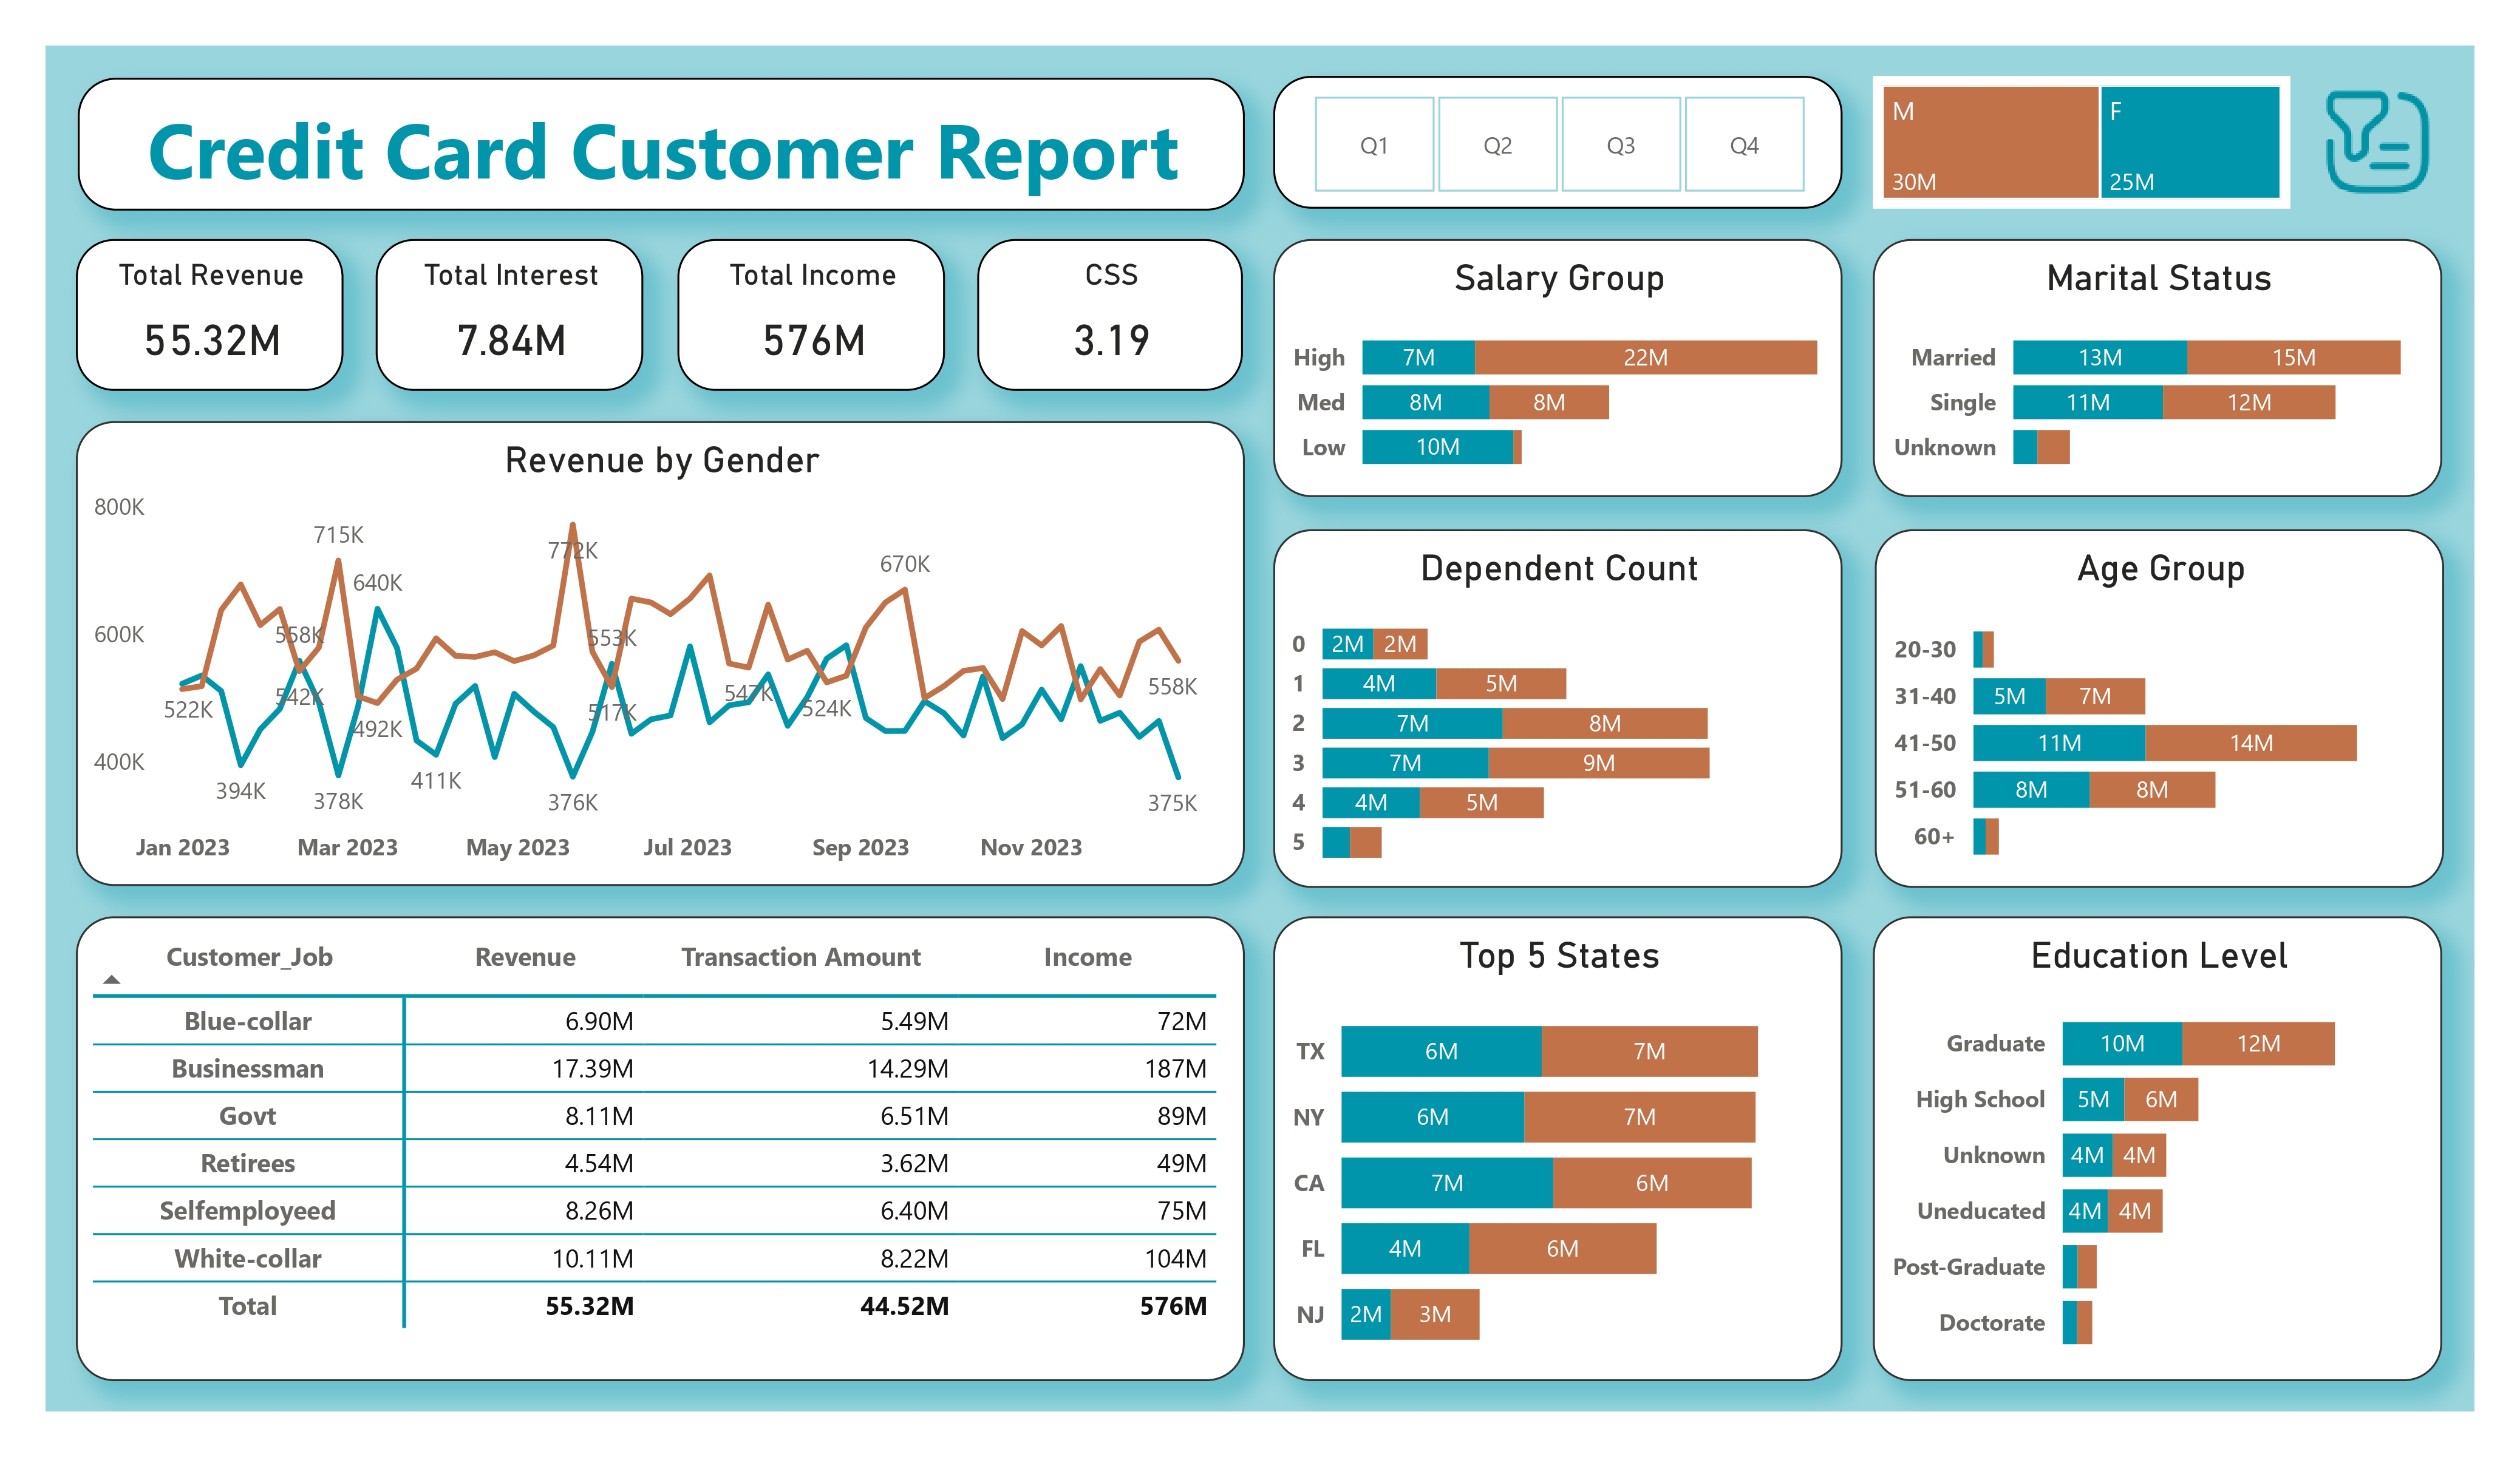

Layout of this report page (visuals, bound fields, positions):
{"tool":"powerbi","page":{"name":"Page 2","canvas":[1280,720],"ordinal":1},"visuals":[{"type":"shape","box":[16.7,16.7,615,70],"z":0},{"type":"slicer","fields":{"Values":["cc_detail.Qtr"]},"box":[647,16,300,70.3],"z":1000},{"type":"barChart","title":"Salary Group","fields":{"Category":["cust_detail.Income_Group"],"Y":["Sum(cc_detail.Revenue)"],"Series":["cust_detail.Gender"]},"box":[647.1,101.6,300.1,136],"z":4000},{"type":"barChart","title":"Dependent Count","fields":{"Category":["cust_detail.Dependent_Count"],"Y":["Sum(cc_detail.Revenue)"],"Series":["cust_detail.Gender"]},"box":[647.1,254.8,300.1,189.1],"z":5000},{"type":"barChart","title":"Age Group","fields":{"Category":["cust_detail.Age_Group"],"Y":["Sum(cc_detail.Revenue)"],"Series":["cust_detail.Gender"]},"box":[964.4,254.8,300.1,189.1],"z":6000},{"type":"barChart","title":"Top 5 States","fields":{"Category":["cust_detail.state_cd"],"Y":["Sum(cc_detail.Revenue)"],"Series":["cust_detail.Gender"]},"box":[647,459,300,245],"z":7000},{"type":"barChart","title":"Education Level","fields":{"Category":["cust_detail.Education_Level"],"Y":["Sum(cc_detail.Revenue)"],"Series":["cust_detail.Gender"]},"box":[963,459,300,245],"z":8000},{"type":"barChart","title":"Marital Status","fields":{"Category":["cust_detail.Marital_Status"],"Y":["Sum(cc_detail.Revenue)"],"Series":["cust_detail.Gender"]},"box":[962.8,101.6,300.1,136],"z":9000},{"type":"lineChart","title":"Revenue by Gender","fields":{"Y":["Sum(cc_detail.Revenue)"],"Category":["cc_detail.Week_Start_Date"],"Series":["cust_detail.Gender"]},"box":[16,198.5,615.8,245],"z":10000},{"type":"pivotTable","fields":{"Values":["Sum(cc_detail.Revenue)","Sum(cc_detail.Total_Trans_Amt)","Sum(cust_detail.Income)"],"Rows":["cust_detail.Customer_Job"]},"box":[16,459,615.8,245],"z":11000},{"type":"treemap","fields":{"Group":["cust_detail.Gender"],"Values":["Sum(cc_detail.Revenue)"]},"box":[962.8,16,220.4,70.3],"z":12000},{"type":"card","title":"Total Revenue","fields":{"Values":["Sum(cc_detail.Revenue)"]},"box":[16,102,141,80],"z":13000},{"type":"card","title":"Total Interest","fields":{"Values":["Sum(cc_detail.Interest_Earned)"]},"box":[174.3,102,141,80],"z":14000},{"type":"card","title":"Total Income","fields":{"Values":["Sum(cust_detail.Income)"]},"box":[332.5,102,141,80],"z":15000},{"type":"card","title":"CSS","fields":{"Values":["Avg(cust_detail.Cust_Satisfaction_Score)"]},"box":[490.8,102,140.7,80],"z":16000},{"type":"image","title":"Filter-open-btn","box":[1194,16,70,70.3],"z":17000}]}

Visuals, with their boxes on the page's 1280x720 design canvas (x1, y1, x2, y2). These are canvas units, not pixel positions in the 2520x1457 screenshot, which may show the page scaled, cropped or inside an application window:
shape: box=[17, 17, 632, 87]
slicer - cc_detail.Qtr: box=[647, 16, 947, 86]
"Salary Group" barChart: box=[647, 102, 947, 238]
"Dependent Count" barChart: box=[647, 255, 947, 444]
"Age Group" barChart: box=[964, 255, 1264, 444]
"Top 5 States" barChart: box=[647, 459, 947, 704]
"Education Level" barChart: box=[963, 459, 1263, 704]
"Marital Status" barChart: box=[963, 102, 1263, 238]
"Revenue by Gender" lineChart: box=[16, 198, 632, 444]
pivotTable - Sum(cc_detail.Revenue) x Sum(cc_detail.Total_Trans_Amt): box=[16, 459, 632, 704]
treemap - cust_detail.Gender x Sum(cc_detail.Revenue): box=[963, 16, 1183, 86]
"Total Revenue" card: box=[16, 102, 157, 182]
"Total Interest" card: box=[174, 102, 315, 182]
"Total Income" card: box=[332, 102, 474, 182]
"CSS" card: box=[491, 102, 632, 182]
"Filter-open-btn" image: box=[1194, 16, 1264, 86]
